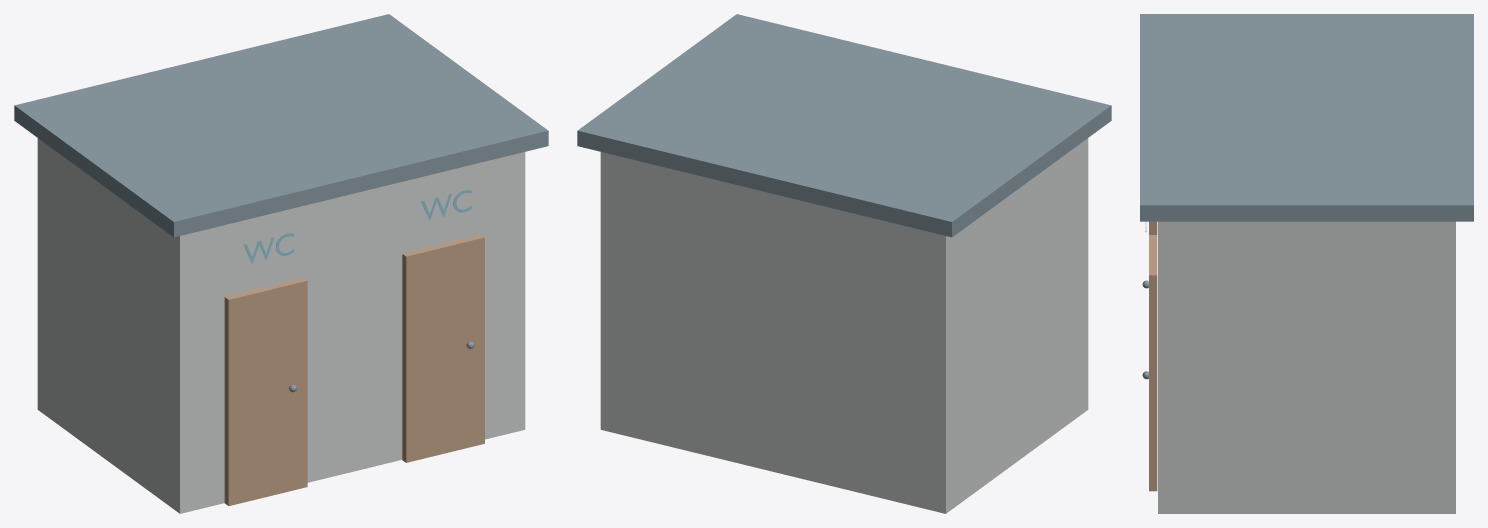
The model's file is public_toilet.glb.
3 views of the same model, side by side, from view 1: azimuth 30°, elevation 25°; view 2: azimuth 150°, elevation 25°; view 3: azimuth 270°, elevation 25° (orthographic). The views are drawn at different scales.
Parts seen in each view (by area): view 1: public_toilet_000, public_toilet_001, public_toilet_002, public_toilet_005; view 2: public_toilet_000, public_toilet_001; view 3: public_toilet_000, public_toilet_001, public_toilet_005.
Boxes of the visible parts, box(x1,y1,x2,y2) form: public_toilet_000: box(37, 138, 525, 513); public_toilet_001: box(14, 14, 548, 237); public_toilet_002: box(224, 278, 307, 505); public_toilet_005: box(402, 234, 484, 462); public_toilet_000: box(600, 138, 1088, 513); public_toilet_001: box(577, 14, 1111, 237); public_toilet_000: box(1158, 221, 1455, 513); public_toilet_001: box(1140, 14, 1473, 221); public_toilet_005: box(1149, 235, 1157, 491).
Bounding box in the file's own units: 3.8 × 2.92 × 2.8.
